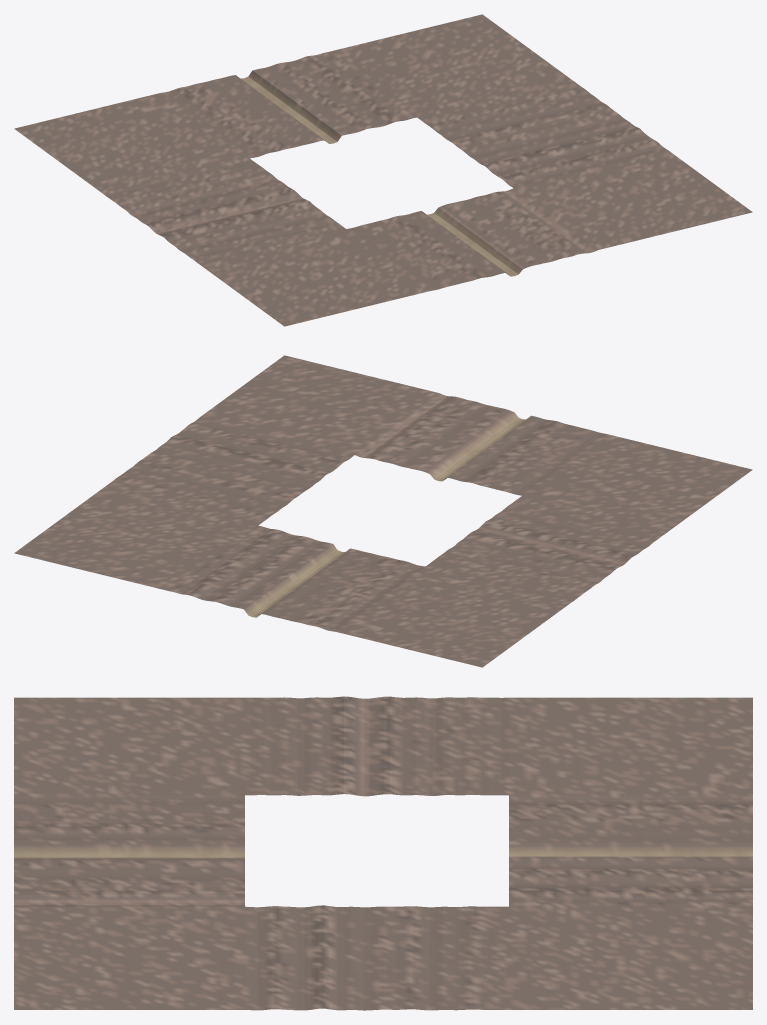
Rendered from backdrop_ground.glb.
3 views of the same model, one above another, from view 1: azimuth 30°, elevation 25°; view 2: azimuth 150°, elevation 25°; view 3: azimuth 270°, elevation 25° (orthographic). The views are drawn at different scales.
Parts seen in each view (by area): view 1: FarGround; view 2: FarGround; view 3: FarGround.
Part boxes in pixels (box(x1,y1,x2,y2)): FarGround: box(14, 14, 752, 326); FarGround: box(14, 355, 752, 667); FarGround: box(14, 696, 752, 1010).
Bounding box in the file's own units: 2240 × 30.49 × 2240.
